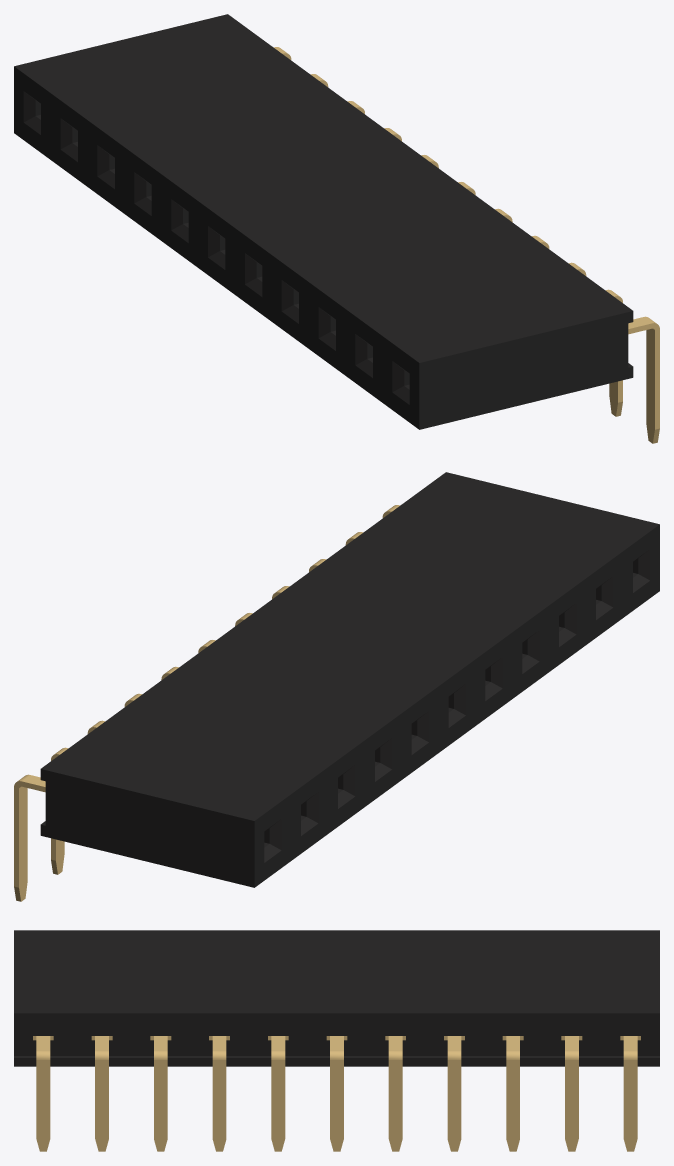
The model's file is kc-pinsocket_1x11_p2.54mm_horizontal.glb.
3 views of the same model, one above another, from view 1: azimuth 30°, elevation 25°; view 2: azimuth 150°, elevation 25°; view 3: azimuth 270°, elevation 25° (orthographic). The views are drawn at different scales.
Parts seen in each view (by area): view 1: 0_0_0_0, 0.75_0.5_0.25_0.9; view 2: 0_0_0_0, 0.75_0.5_0.25_0.9; view 3: 0_0_0_0, 0.75_0.5_0.25_0.9.
Part boxes in pixels (x1,y1,x2,y2): 0_0_0_0: (14,14,633,429); 0.75_0.5_0.25_0.9: (274,47,659,443); 0_0_0_0: (40,472,659,887); 0.75_0.5_0.25_0.9: (14,505,399,901); 0_0_0_0: (14,930,659,1066); 0.75_0.5_0.25_0.9: (33,1036,640,1151).
Size of the model in its own units: 1.01 by 0.584 by 2.79.
